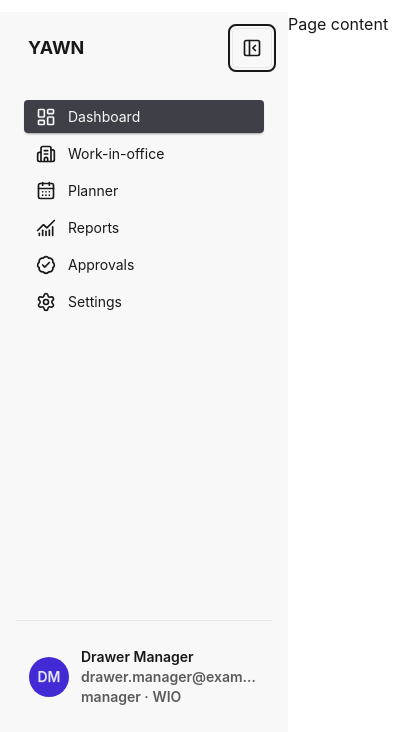
it: AppShell navigation › collapses, retains accessible navigation names, and persists the choice
The image size is (405, 732).
What coordinates should you click on to do the following:
click the button named "Collapse navigation"
I would click on:
 (252, 48)
Its box is left=232, top=28, right=272, bottom=68.
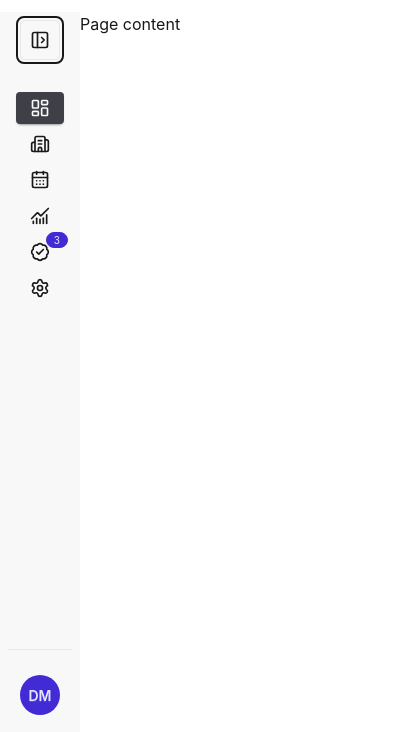
Expected: the number of links named "Work-in-office" is 1, left=30, top=134, right=50, bottom=154
Result: the button named "Collapse navigation" is collapsed at left=20, top=20, right=60, bottom=60
